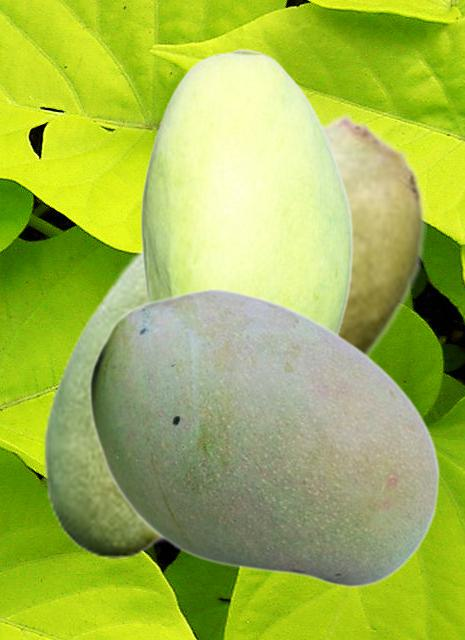green_mango: (42, 113, 425, 557), (88, 287, 439, 587), (140, 48, 352, 334)
